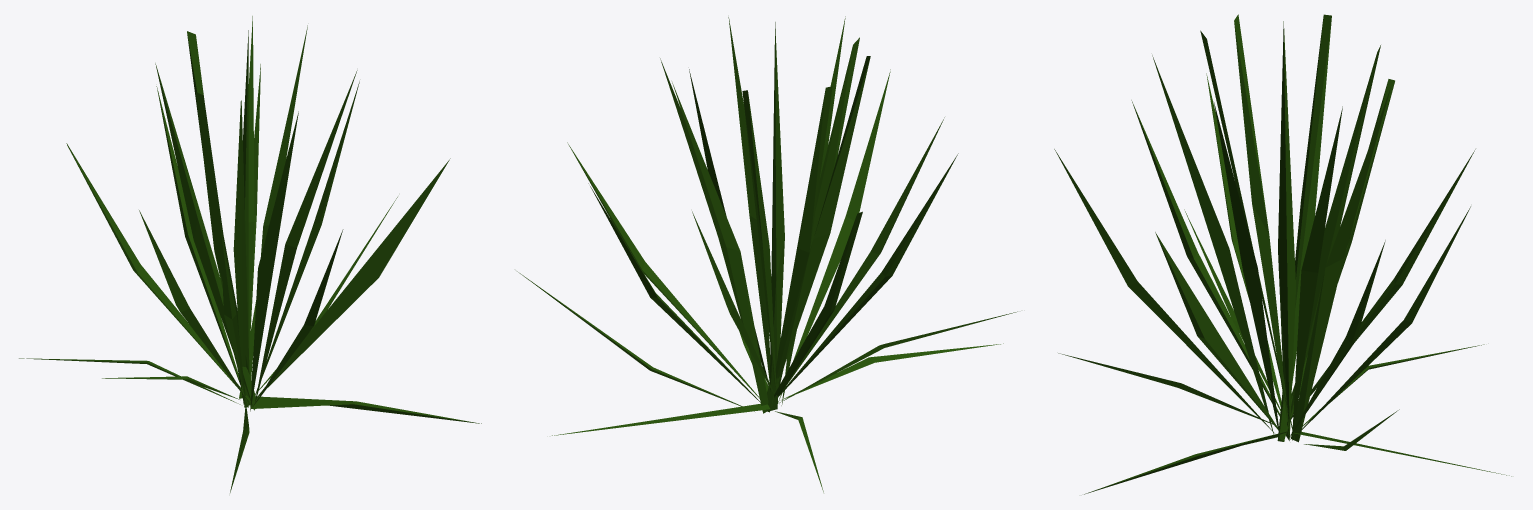
The model's file is greengrassbush.obj.
3 renders of one model, left to right at view 1: azimuth 30°, elevation 25°; view 2: azimuth 150°, elevation 25°; view 3: azimuth 270°, elevation 25°, orthographic. The views are drawn at different scales.
Visible parts, largest first — view 1: p1-green_Cylinder.040; view 2: p1-green_Cylinder.040; view 3: p1-green_Cylinder.040.
Boxes of the visible parts, x1=… form: p1-green_Cylinder.040: x1=19, y1=16, x2=481, y2=492; p1-green_Cylinder.040: x1=517, y1=16, x2=1017, y2=492; p1-green_Cylinder.040: x1=1054, y1=14, x2=1511, y2=494.
Size of the model in its own units: 2.01 by 1.81 by 1.82.
